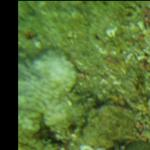dead: (20, 3, 146, 148)
